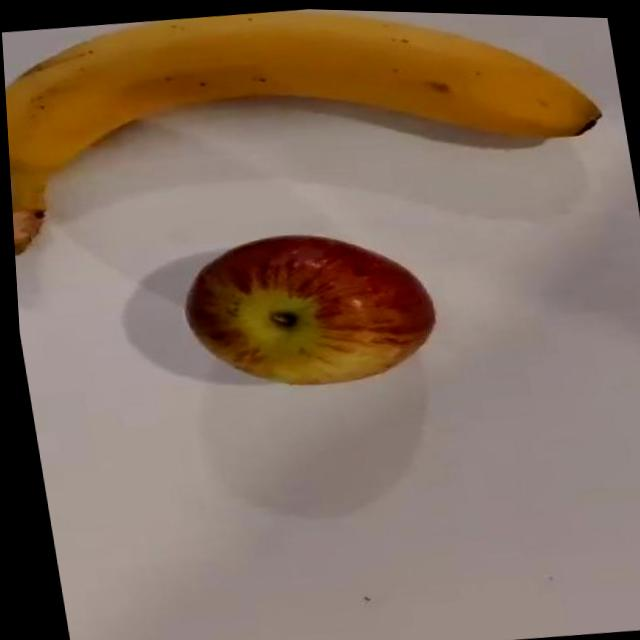Apple: (165, 211, 446, 403)
Banana: (0, 0, 611, 206)
